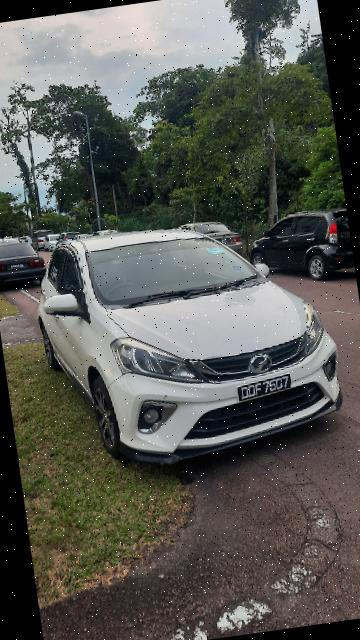License_Plate: (236, 373, 295, 404)
car: (20, 198, 351, 486)
